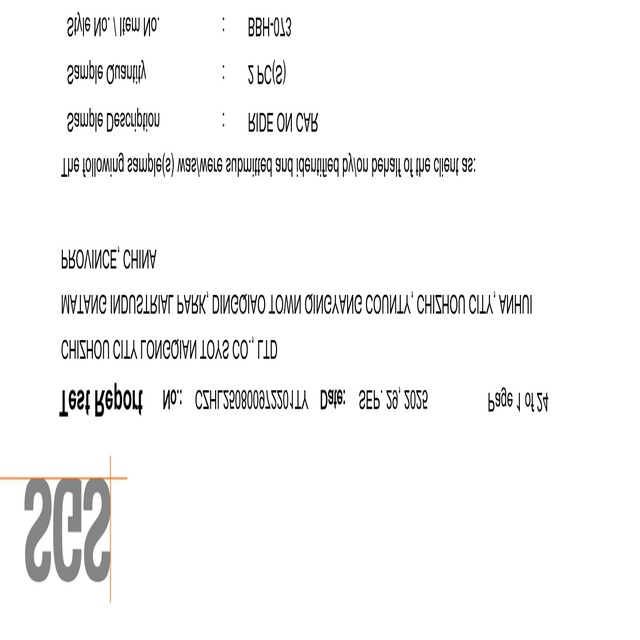sgs: (22, 478, 112, 582)
